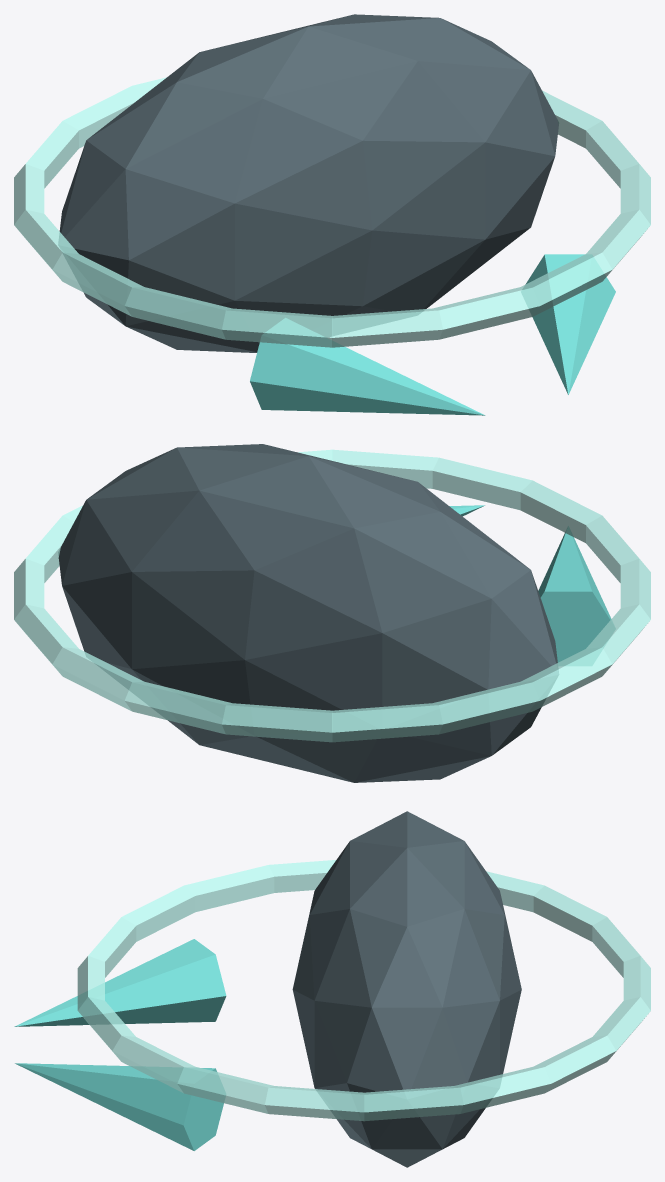
File: 03_creature_skin_element_overlay_3.glb
3 renders of one model, top to bottom at view 1: azimuth 30°, elevation 25°; view 2: azimuth 150°, elevation 25°; view 3: azimuth 270°, elevation 25°, orthographic. The views are drawn at different scales.
Visible parts, largest first — view 1: skin_patch_body, element_aura, elemental_horn_l, elemental_horn_r; view 2: skin_patch_body, element_aura, elemental_horn_l; view 3: skin_patch_body, element_aura, elemental_horn_l, elemental_horn_r.
Part boxes in pixels (bbox=[...]): skin_patch_body: bbox=[58, 14, 558, 352]; element_aura: bbox=[14, 77, 650, 347]; elemental_horn_l: bbox=[250, 318, 485, 415]; elemental_horn_r: bbox=[521, 254, 615, 394]; skin_patch_body: bbox=[58, 444, 558, 782]; element_aura: bbox=[14, 449, 650, 742]; elemental_horn_l: bbox=[538, 526, 615, 665]; skin_patch_body: bbox=[292, 811, 521, 1167]; element_aura: bbox=[77, 860, 650, 1121]; elemental_horn_l: bbox=[14, 939, 226, 1026]; elemental_horn_r: bbox=[15, 1063, 225, 1150].
Size of the model in its own units: 0.95 by 0.51 by 1.04.
